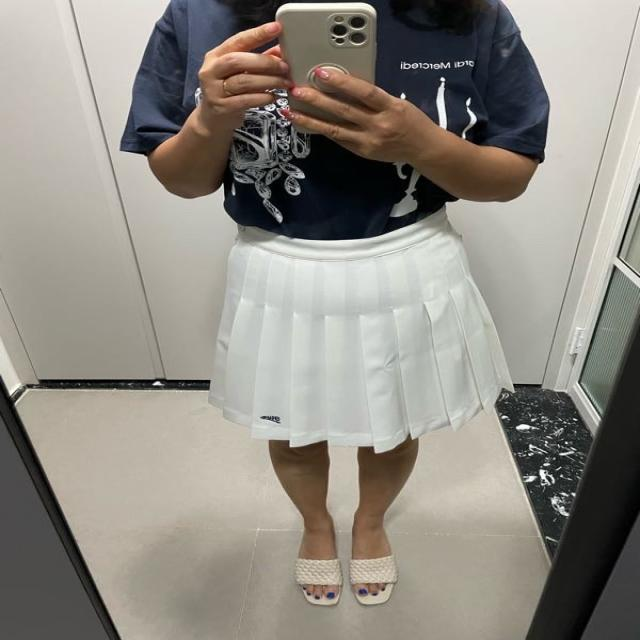shortsleeve: (122, 0, 554, 241)
skirt: (199, 217, 508, 445)
